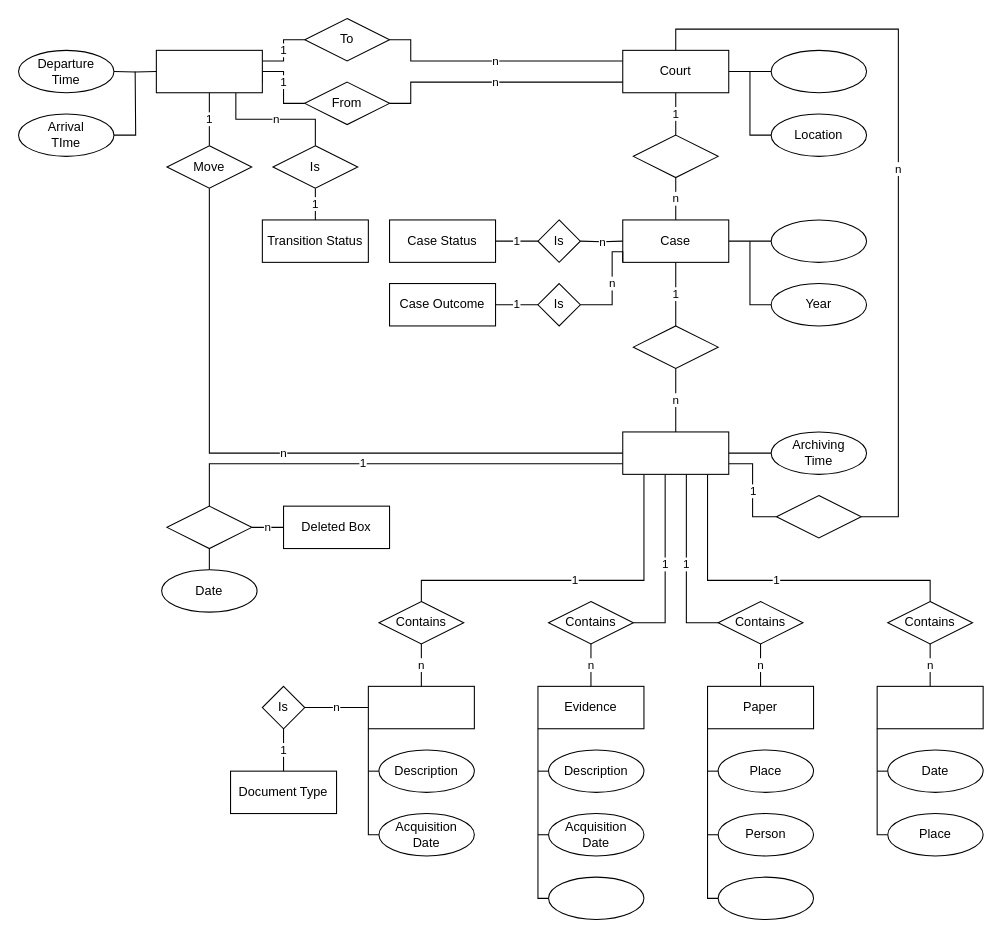
Some shapes in this 1002 by 938 pixel diagram are drawn without their labels. Each missing label, with the box of its shape:
Box: (622, 431, 729, 474)
Crime: (770, 219, 867, 262)
Deleted: (166, 505, 252, 549)
Document: (367, 685, 474, 729)
Has: (632, 134, 718, 178)
Label: (547, 876, 644, 920)
Located: (775, 494, 861, 538)
Name: (770, 49, 867, 93)
Registration Date: (717, 876, 814, 920)
Report: (876, 685, 983, 729)
Store: (632, 325, 718, 368)
Transition: (155, 49, 262, 93)
